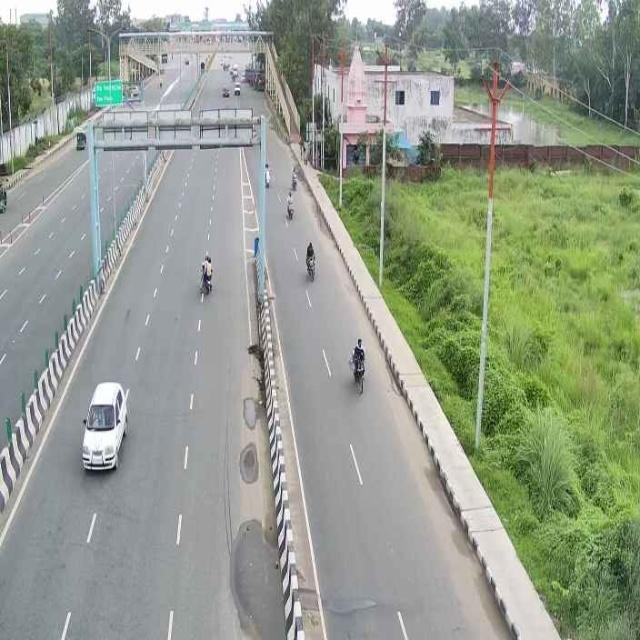car: (79, 379, 131, 475)
